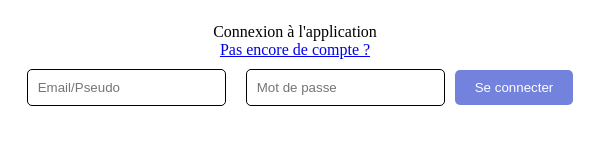
it: Login component › displays error message if login fails
Type "test@test.com" into the field with placeholder "Email/Pseudo" at (126, 87), box [27,68,226,106]
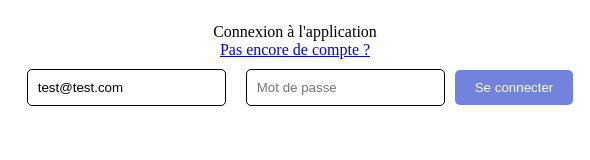
Type "testpassword" into the password field with placeholder "Mot de passe" at (345, 87), box [246,68,445,106]
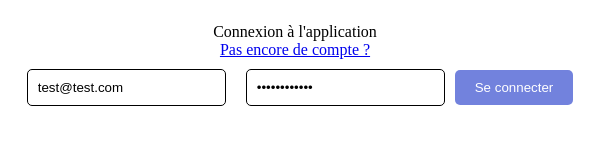
Click the button "Se connecter" at (514, 87), box [455,70,573,104]
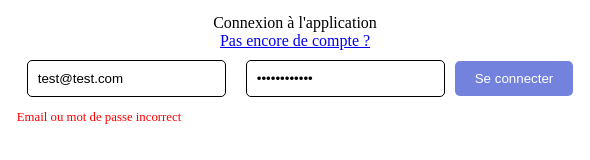
Check: the text "Email ou mot de passe incorrect" is shown, box [17,110,181,124]
